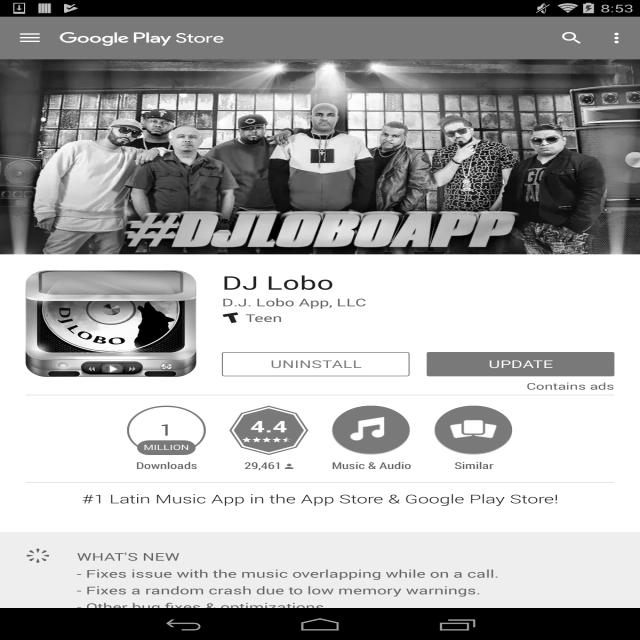Button: (222, 406, 316, 472), (324, 406, 418, 472), (426, 406, 520, 472), (222, 352, 409, 376), (427, 352, 614, 376)
ImageButton: (0, 17, 60, 59)
ImageView: (0, 59, 640, 254), (26, 270, 196, 377), (332, 406, 411, 455), (434, 406, 513, 455), (60, 30, 224, 46), (597, 22, 640, 54), (26, 548, 51, 564), (222, 312, 239, 323), (285, 464, 293, 469)
TextView: (77, 566, 614, 626), (0, 490, 640, 519), (222, 270, 614, 295), (77, 548, 614, 566), (222, 295, 366, 309), (546, 22, 597, 54), (324, 455, 418, 472), (426, 455, 520, 472), (120, 455, 213, 472), (526, 380, 614, 392), (250, 415, 288, 437), (244, 455, 282, 472), (245, 311, 283, 325), (142, 443, 192, 452), (159, 420, 173, 440)
